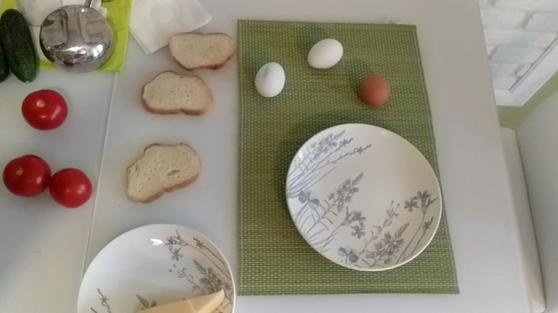cheese: (142, 285, 224, 313)
cucumber: (7, 9, 35, 83)
egg: (307, 35, 345, 70), (357, 70, 392, 108), (252, 62, 286, 98)
tomato: (22, 90, 67, 131), (52, 166, 93, 208), (6, 158, 52, 195)
white_bread: (128, 141, 202, 205), (142, 70, 214, 116), (163, 28, 235, 70)
